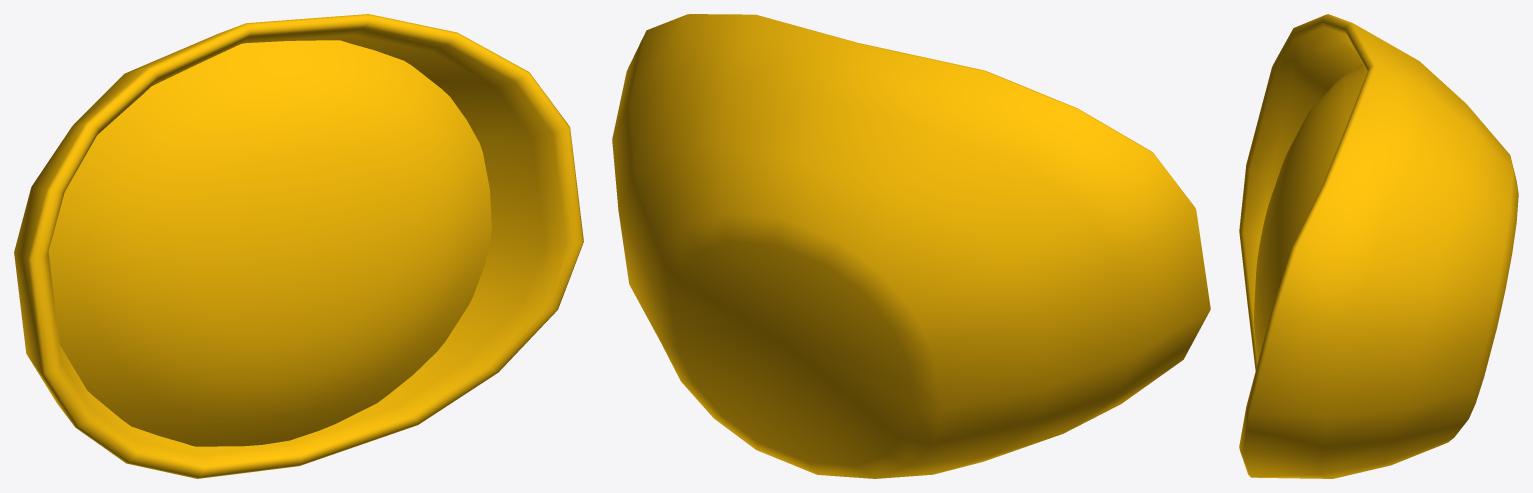
The model's file is yuanbao.FBX.
The picture shows the model from 3 angles, left to right: view 1: azimuth 30°, elevation 25°; view 2: azimuth 150°, elevation 25°; view 3: azimuth 270°, elevation 25°; orthographic projection. The views are drawn at different scales.
Visible parts, largest first — view 1: objSphere03; view 2: objSphere03; view 3: objSphere03.
Part boxes in pixels (bbox=[...]): objSphere03: bbox=[14, 14, 583, 478]; objSphere03: bbox=[612, 14, 1210, 478]; objSphere03: bbox=[1239, 14, 1518, 478].
Bounding box in the file's own units: 0.00186 × 0.00133 × 0.000879.
